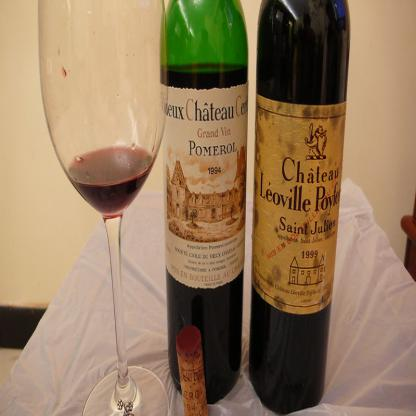drinking: (38, 0, 169, 415), (249, 0, 351, 415), (160, 0, 249, 404)
